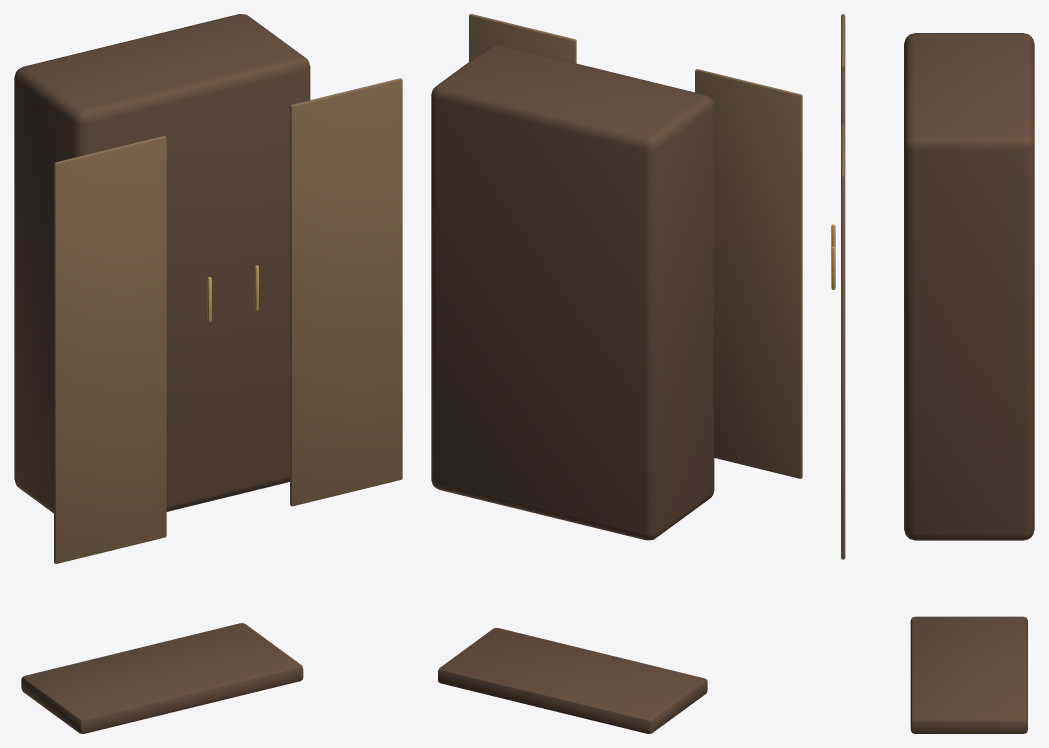
Rendered from wardrobe.glb.
The picture shows the model from 3 angles, left to right: view 1: azimuth 30°, elevation 25°; view 2: azimuth 150°, elevation 25°; view 3: azimuth 270°, elevation 25°; orthographic projection. The views are drawn at different scales.
Parts seen in each view (by area): view 1: body, door.001, door, plinth; view 2: body, door, plinth, door.001; view 3: body, plinth, door.001, door.
Part boxes in pixels (x1,y1,x2,y2): body: (14, 14, 310, 513); door.001: (290, 78, 402, 506); door: (54, 136, 166, 563); plinth: (21, 623, 303, 733); body: (431, 44, 714, 540); door: (695, 69, 802, 478); plinth: (438, 628, 707, 733); door.001: (469, 14, 576, 63); body: (904, 33, 1034, 540); plinth: (910, 616, 1027, 733); door.001: (841, 124, 845, 559); door: (841, 14, 845, 125).
Size of the model in its own units: 0.885 by 1.52 by 0.467.
